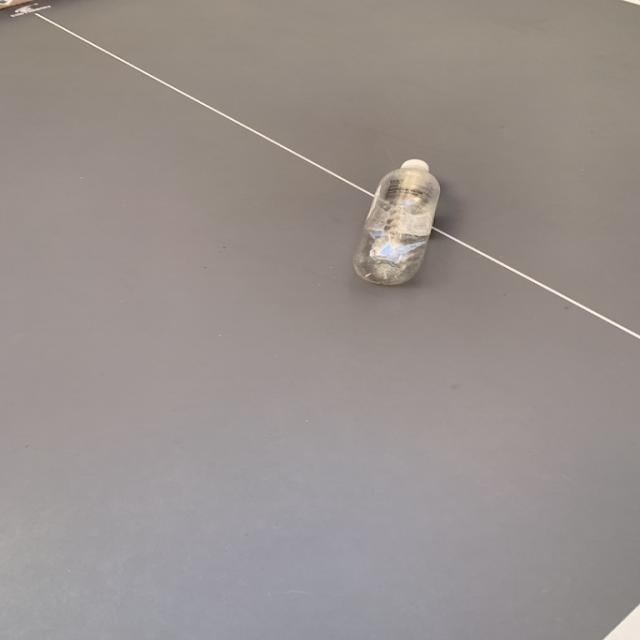Waste: (354, 159, 441, 285)
